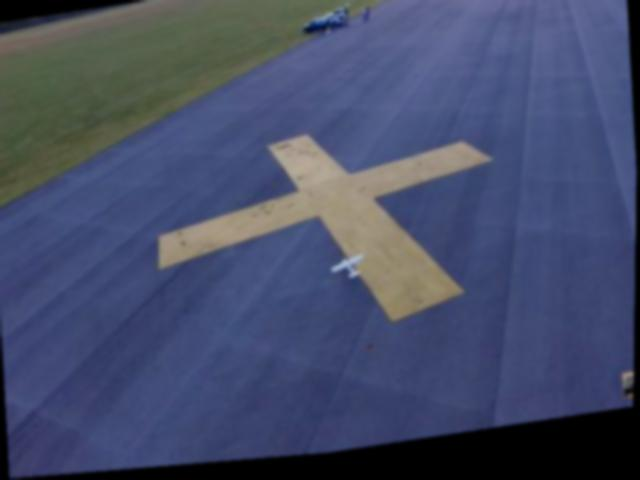uav: (330, 253, 366, 289)
